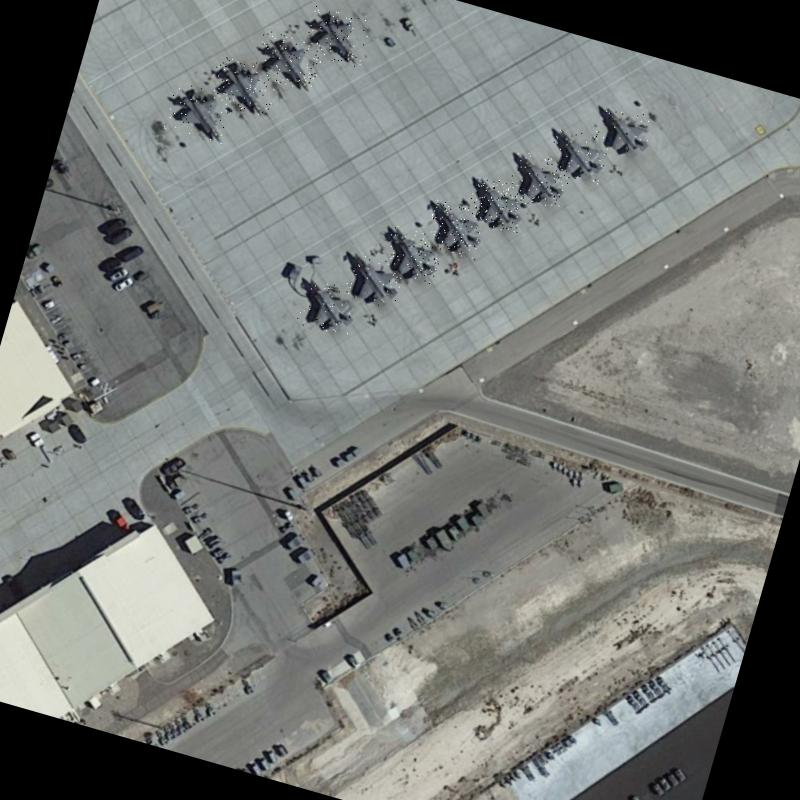A15: (250, 29, 326, 95), (161, 81, 236, 147), (205, 55, 280, 119), (302, 5, 372, 68), (380, 222, 446, 286), (544, 123, 611, 186), (340, 249, 407, 311), (506, 149, 572, 211), (591, 101, 658, 162), (464, 174, 530, 235), (422, 199, 488, 260), (296, 276, 360, 338)
